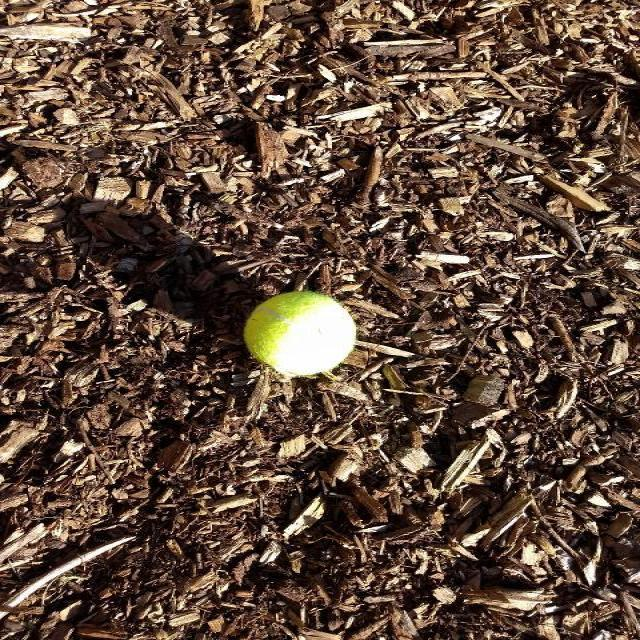tennis-ball: (241, 290, 357, 375)
